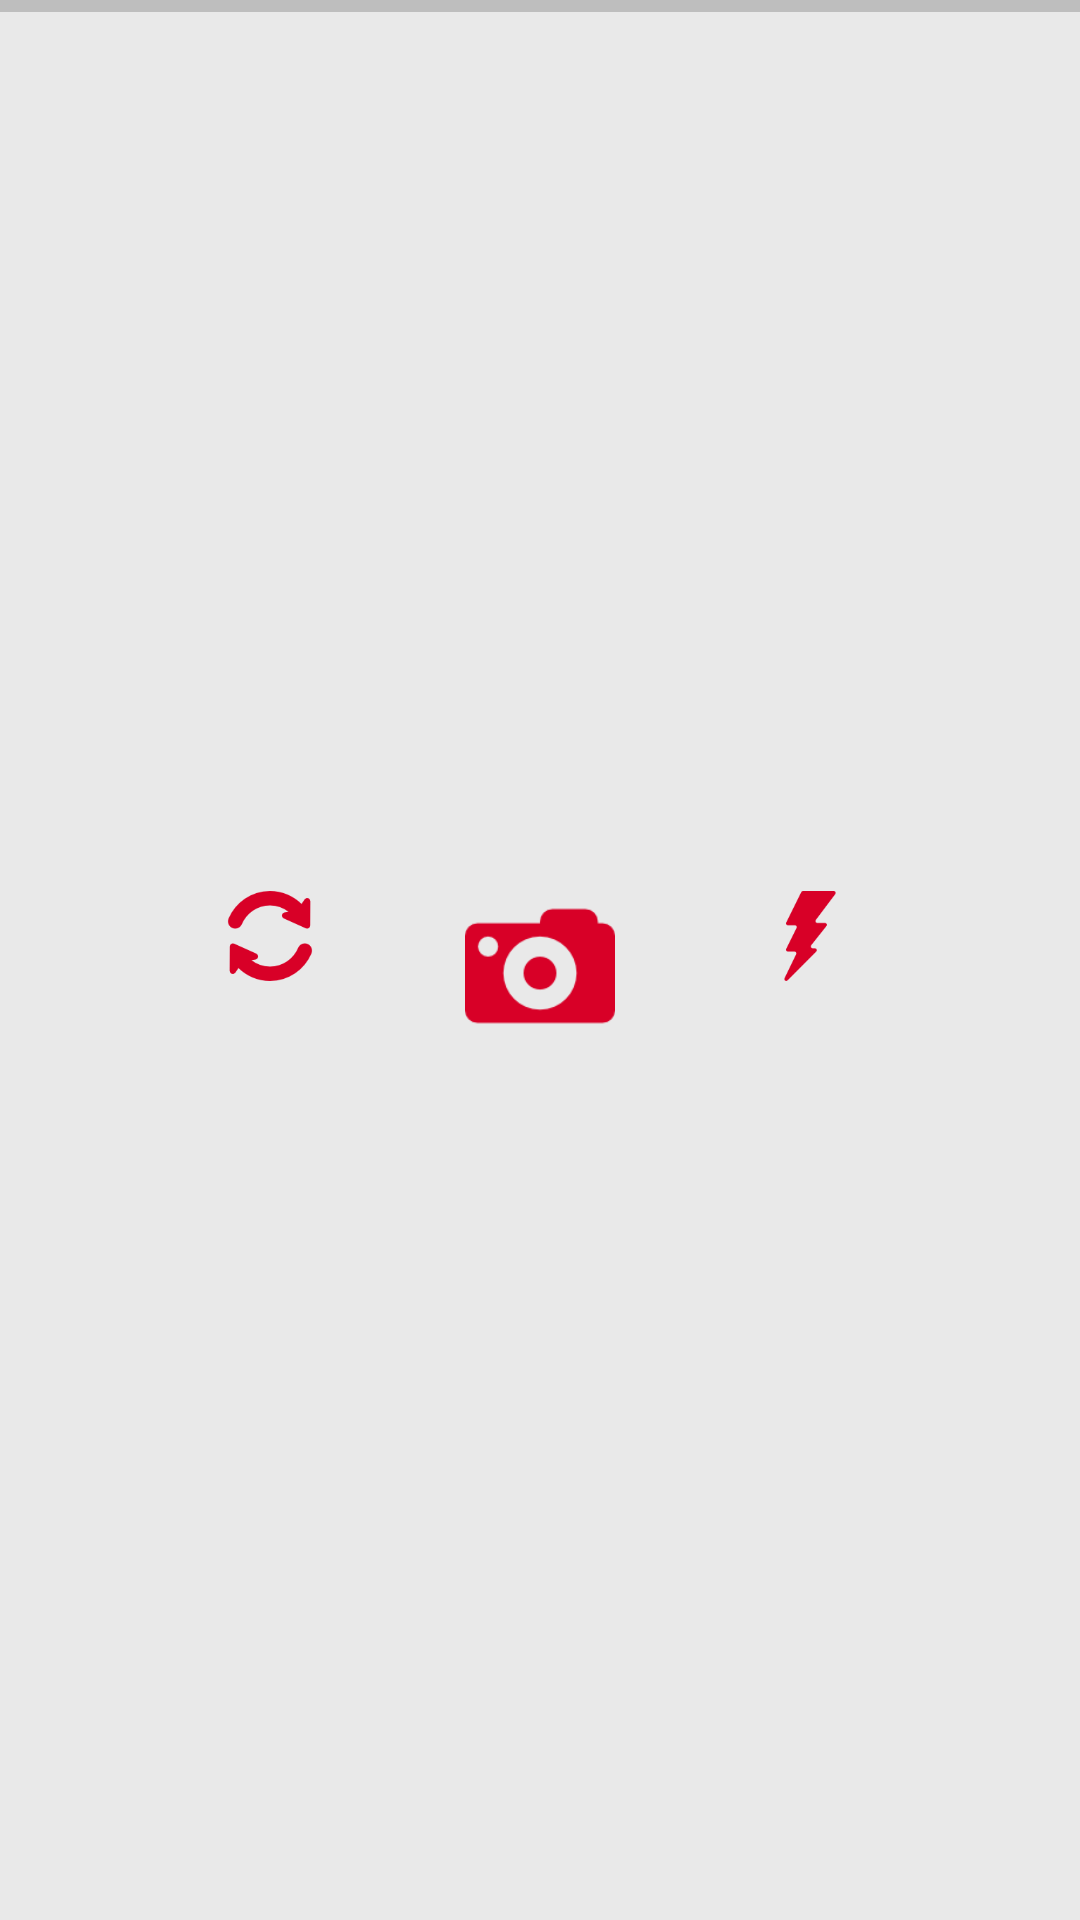

Icon bounding boxes for this 1080 × 1920 phone screenshot, format (x1, y1, x2, y2):
camera: (465, 908, 615, 1024)
flash: (784, 891, 836, 981)
flip: (228, 891, 312, 981)
